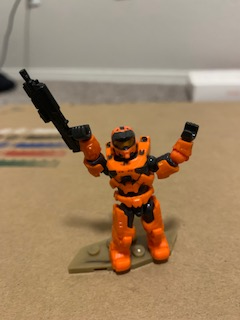rifle: (16, 67, 93, 161)
spartan: (70, 119, 199, 268)
up: (73, 123, 197, 191)
